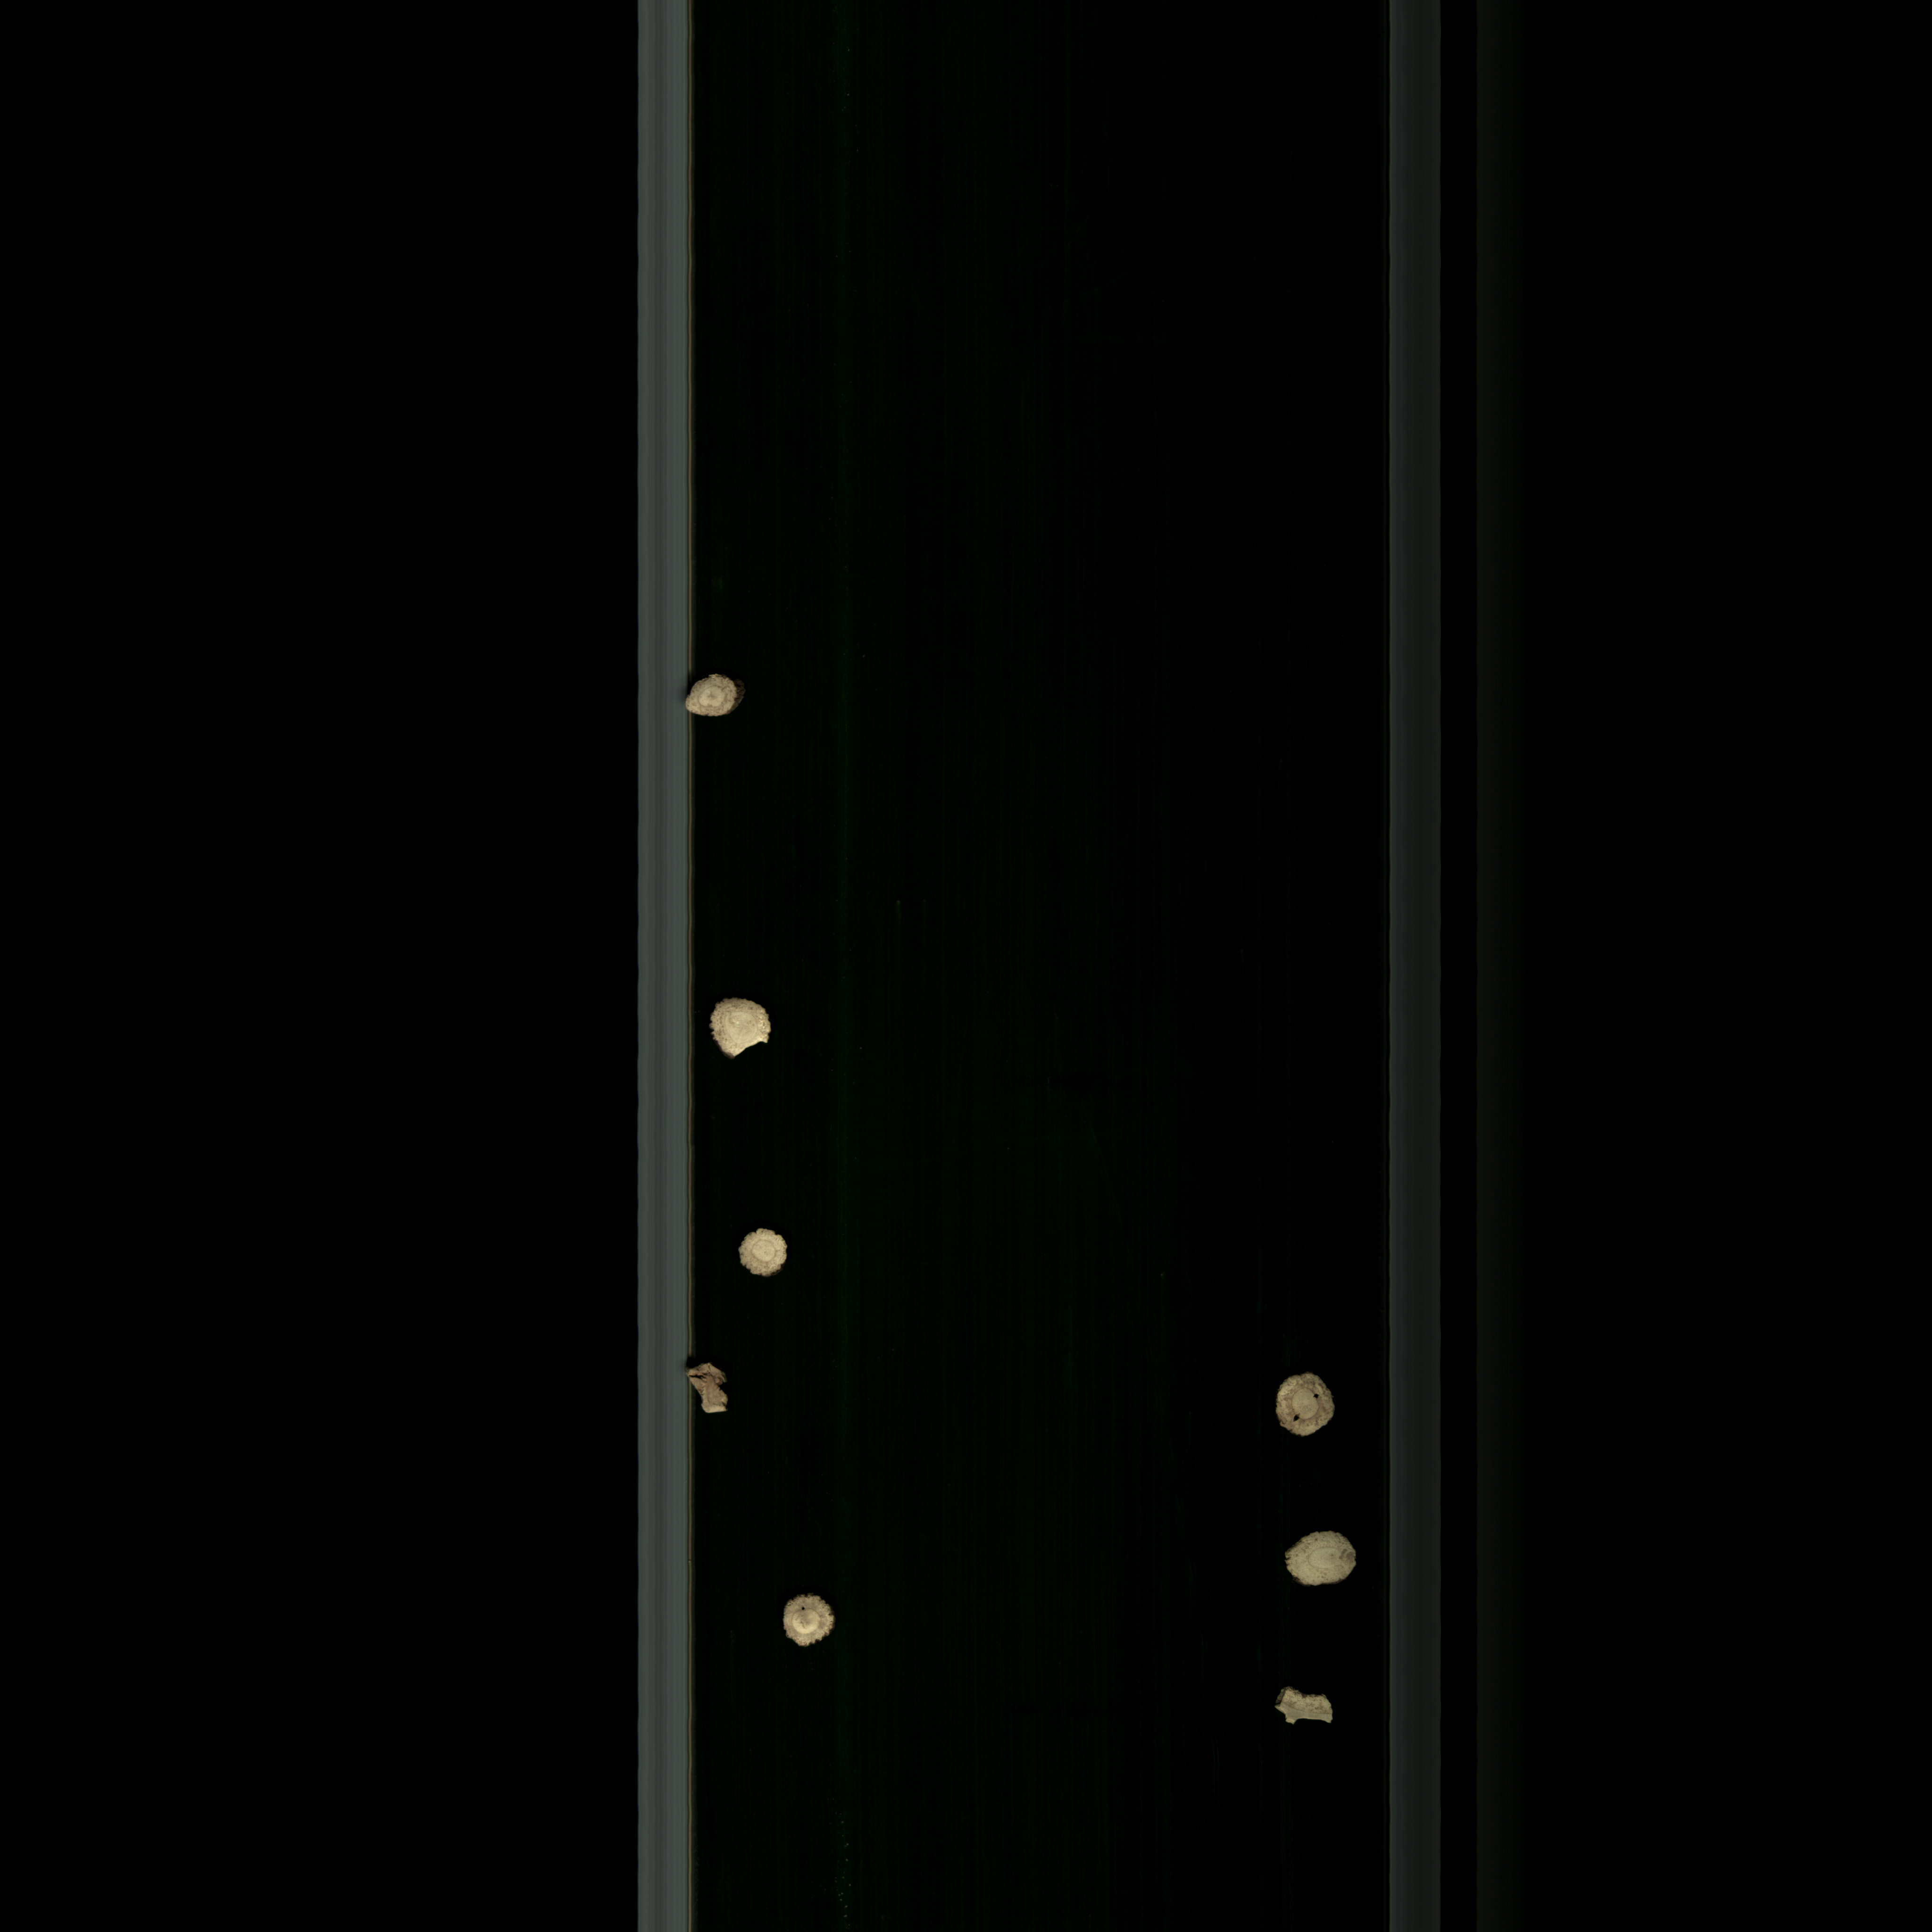debris: (704, 984, 782, 1070)
dreg: (1267, 1677, 1350, 1734)
hole: (773, 1585, 862, 1670)
moldy: (1276, 1368, 1339, 1447), (683, 1359, 752, 1431), (679, 672, 761, 731)
